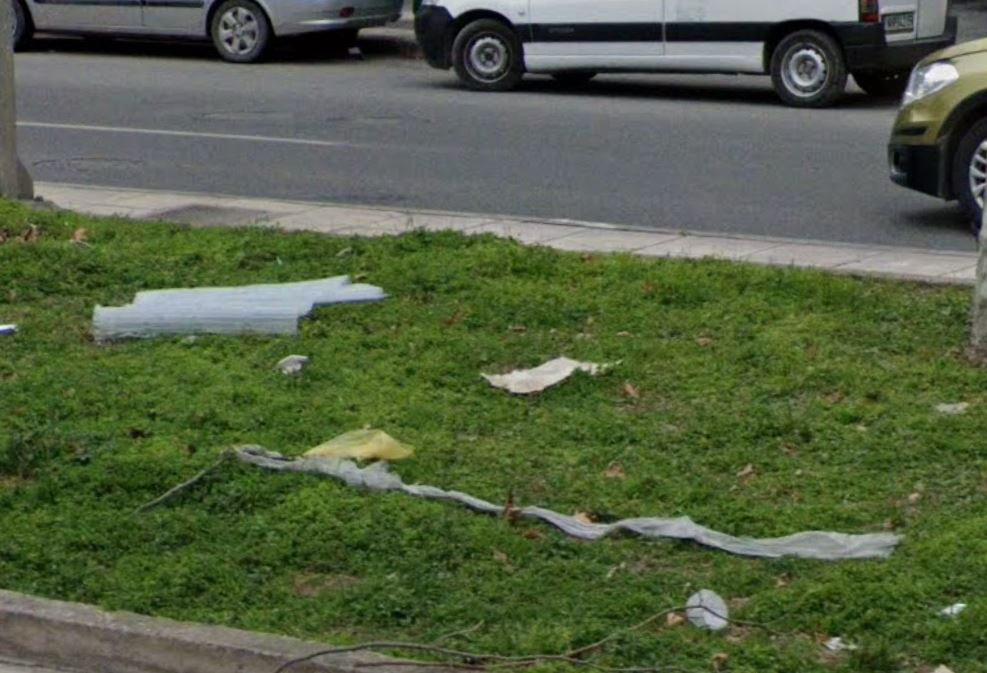trash: (174, 426, 909, 566), (75, 276, 410, 344), (478, 333, 618, 402), (682, 580, 734, 633)
